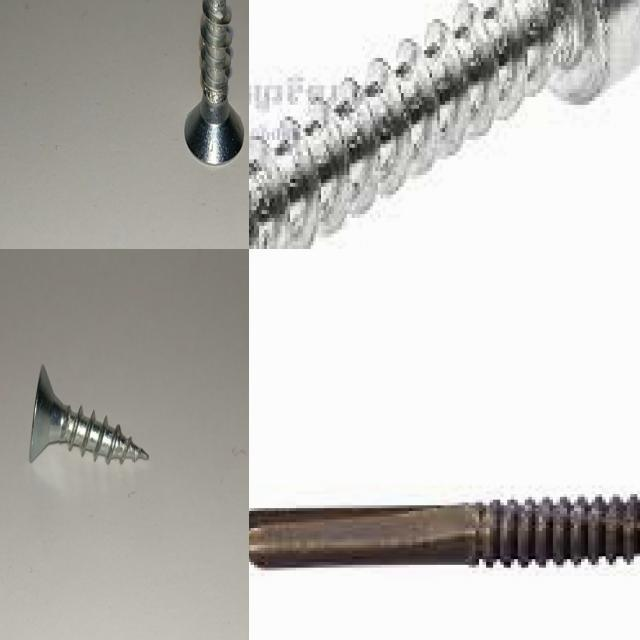Screw: (249, 0, 640, 249), (249, 497, 640, 573), (29, 364, 149, 463), (184, 0, 244, 164)
